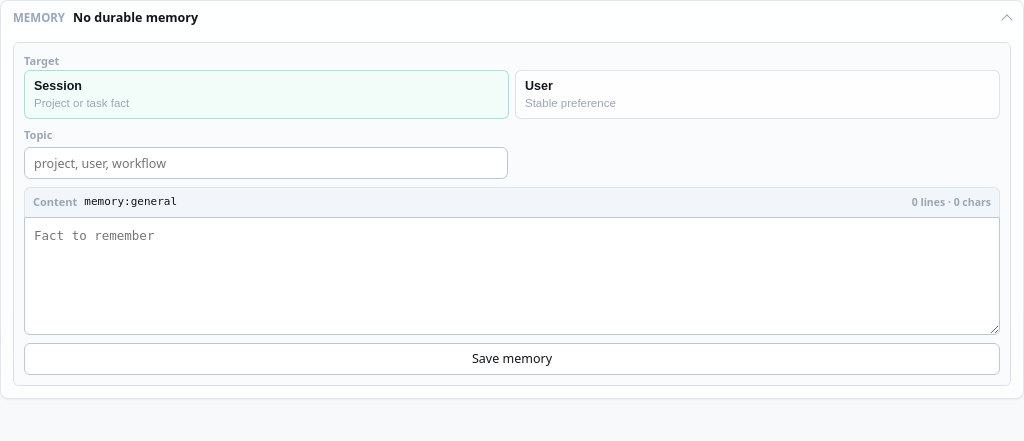
Scenario: SessionMemoryPanel › saves memory directly when the runtime supports memory writes
Type "research" into the field labelled "Topic". click: (266, 163)
box: [24,147,508,179]
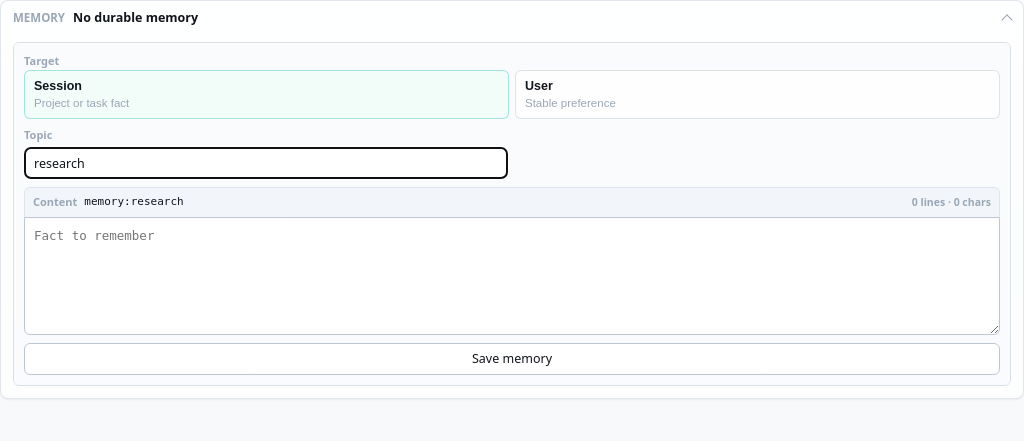
Type "CoinGecko pages require a browser fallback." into the text box named "Content". click: (512, 276)
box: [24,217,1000,335]
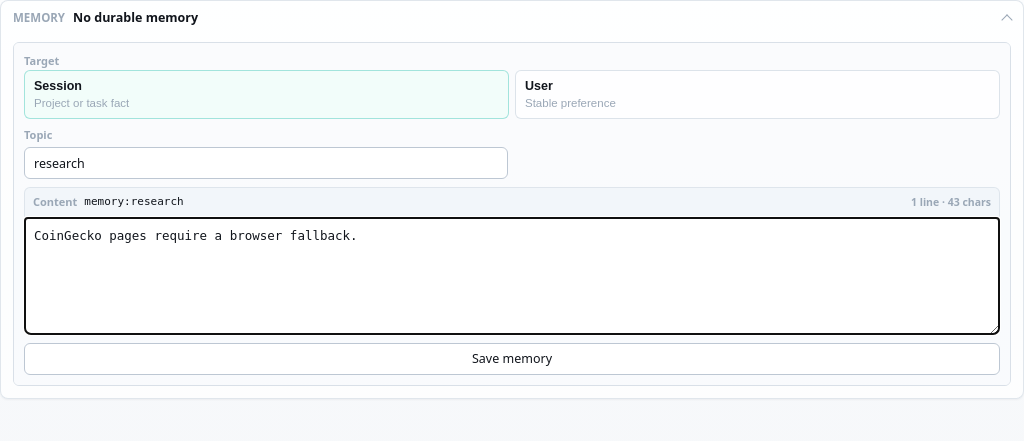
Click the button "Save memory". click: (512, 359)
box: [24,343,1000,375]
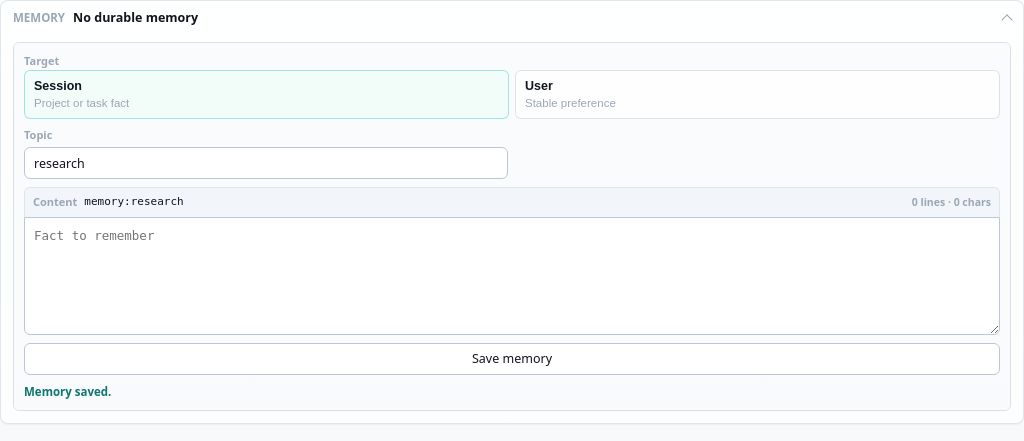
Expected: the text "Memory saved." is shown, [24,384,111,399]
Expected: the text box named "Content" is empty, [24,217,1000,335]
